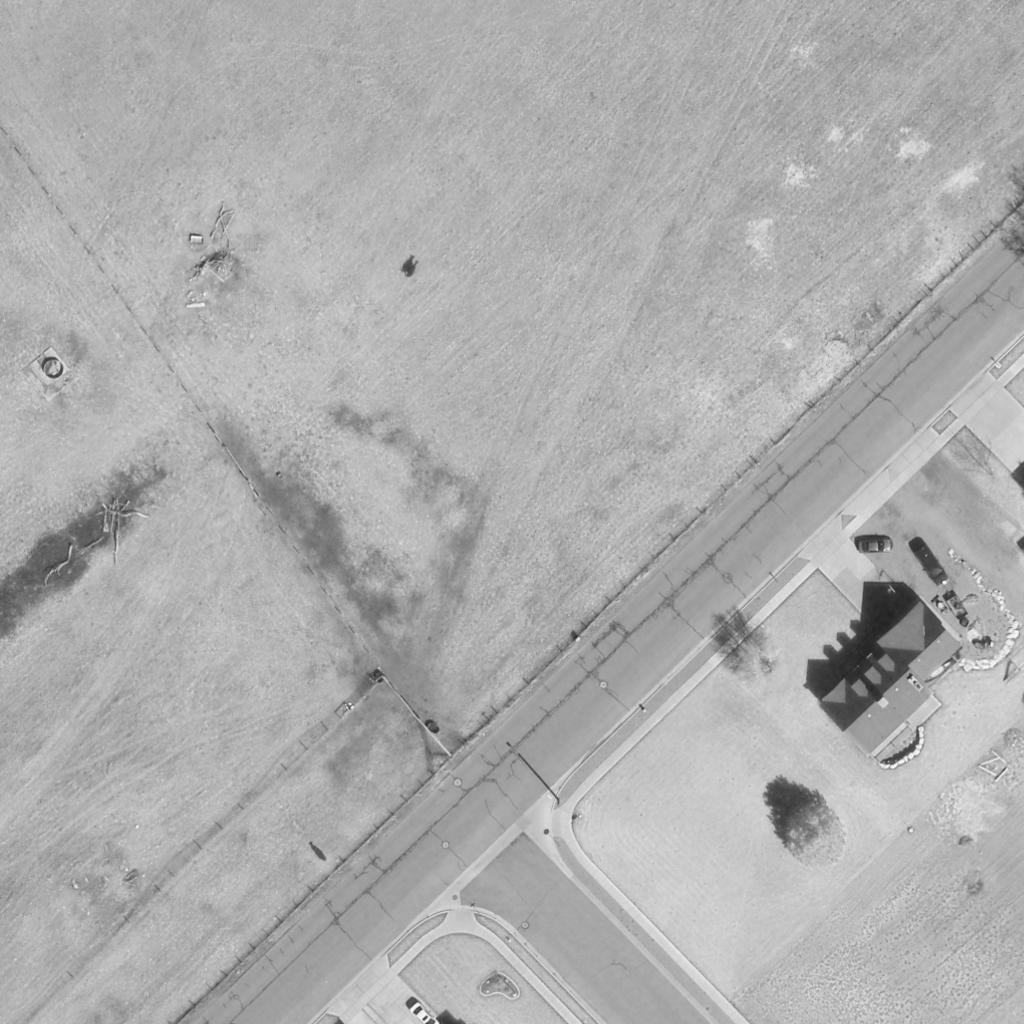vehicle: (913, 544, 951, 586), (409, 1001, 443, 1024), (858, 539, 894, 553)
